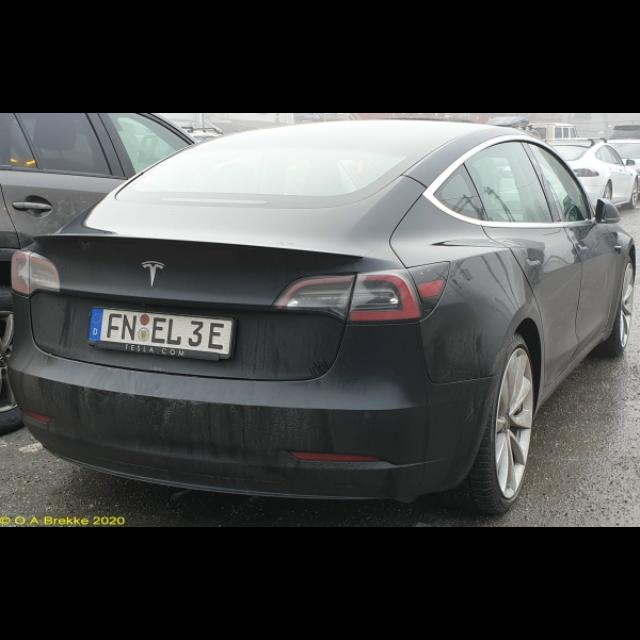d_license_plate: (87, 306, 231, 356)
